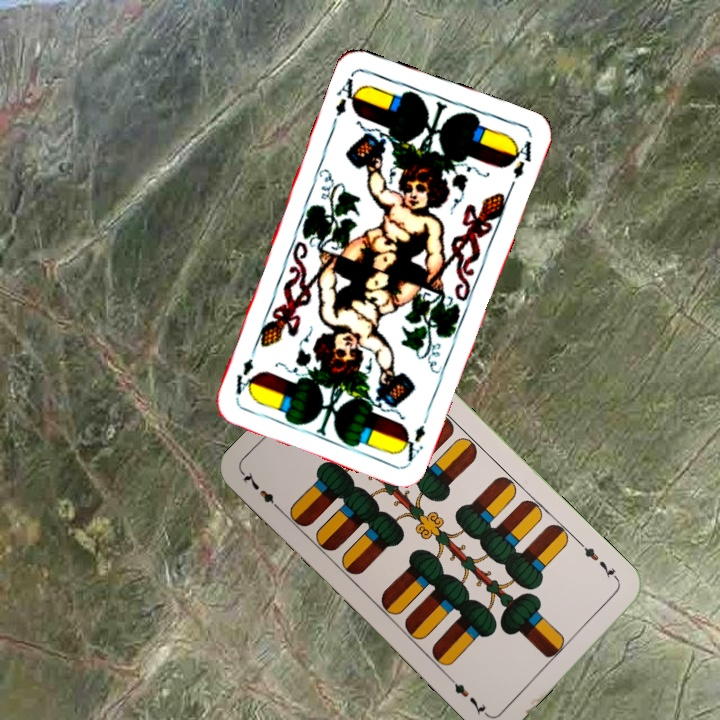E7: (238, 467, 285, 515), (576, 539, 622, 585)
EA: (397, 407, 433, 465), (331, 69, 365, 119)
